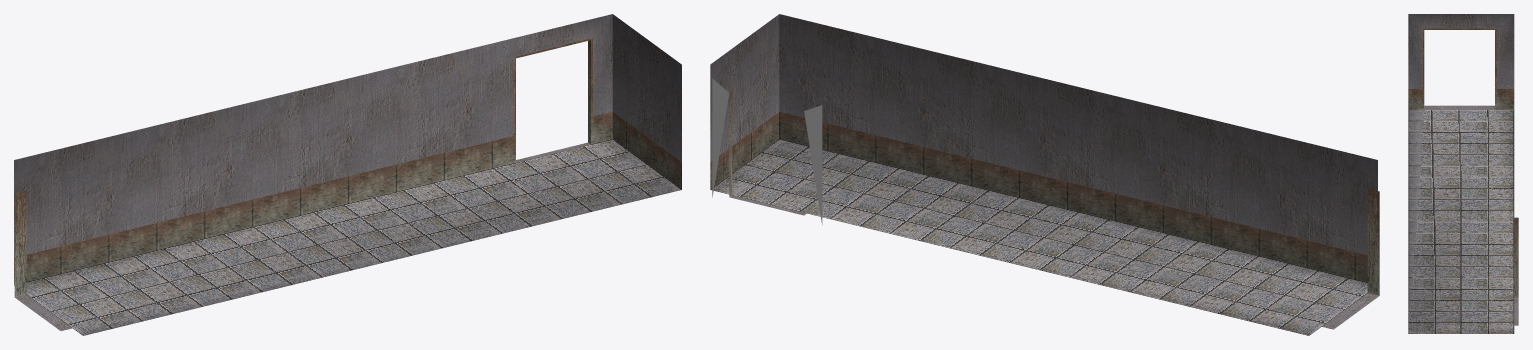
Rendered from M10_Offices_Int_01.glb.
3 views of the same model, side by side, from view 1: azimuth 30°, elevation 25°; view 2: azimuth 150°, elevation 25°; view 3: azimuth 270°, elevation 25° (orthographic). The views are drawn at different scales.
Parts seen in each view (by area): view 1: M10_OFFICES_INT_01; view 2: M10_OFFICES_INT_01; view 3: M10_OFFICES_INT_01.
Boxes of the visible parts, left/top/right/bottom form: M10_OFFICES_INT_01: left=14, top=14, right=681, bottom=335; M10_OFFICES_INT_01: left=710, top=14, right=1379, bottom=335; M10_OFFICES_INT_01: left=1408, top=14, right=1518, bottom=333.
Bounding box in the file's own units: 15.3 × 3.12 × 3.12.
5 materials, 5 textured.
